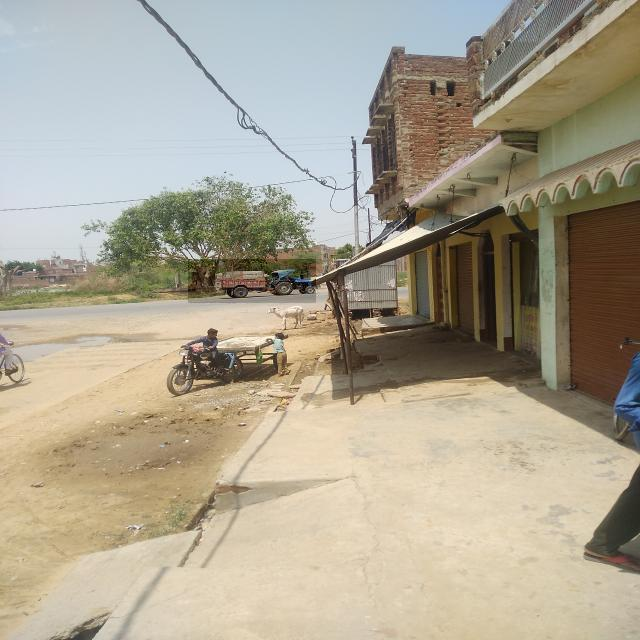Tractot: (188, 260, 316, 304)
